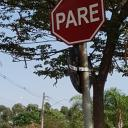Pare: (46, 0, 108, 45)
